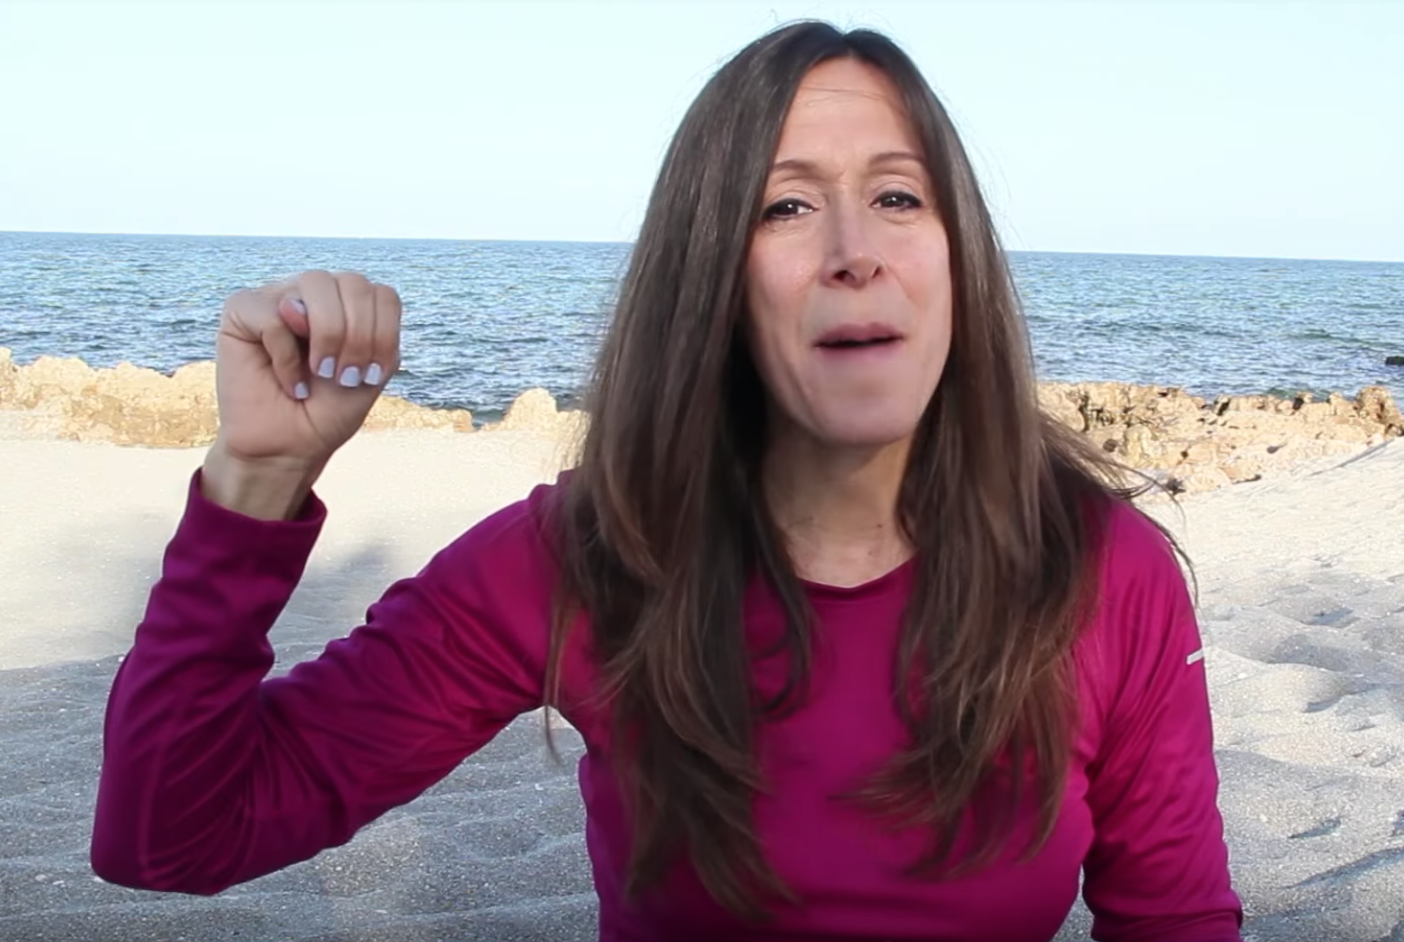m: (195, 269, 433, 500)
